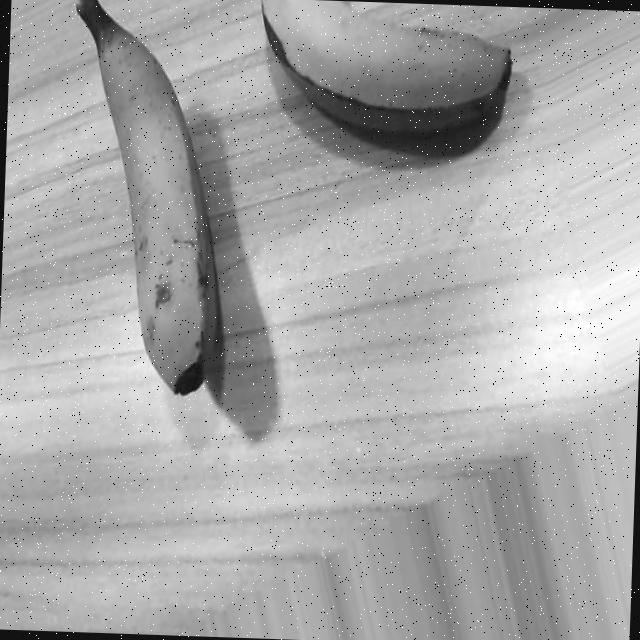Unripe: (60, 0, 229, 398), (254, 0, 517, 150)
